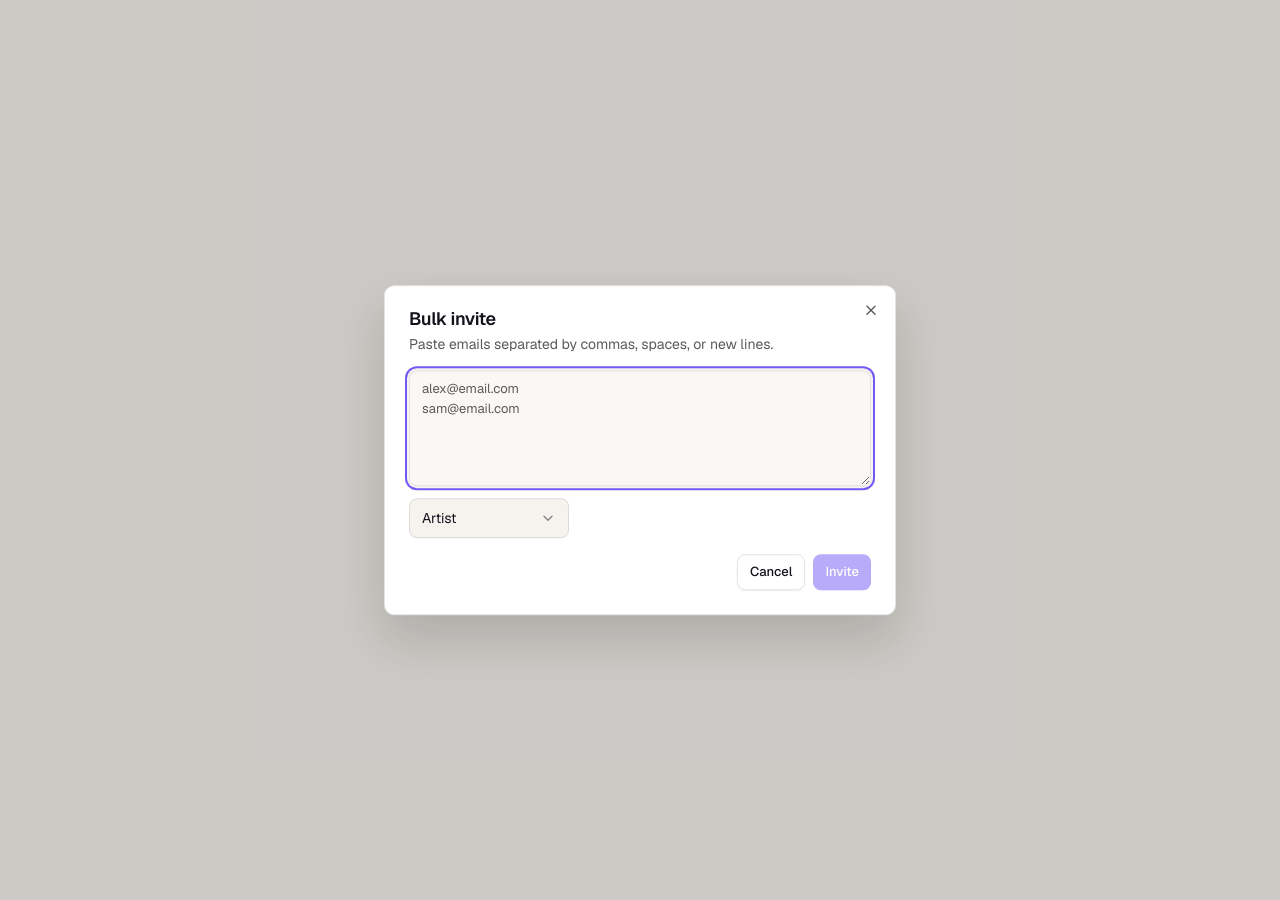
Scenario: BulkInviteDialog › keeps the dialog open and repopulates only the failed addresses on partial failure
Type "new@x.com, boom@x.com" into the text box at [640, 428], box [409,370,871,486]
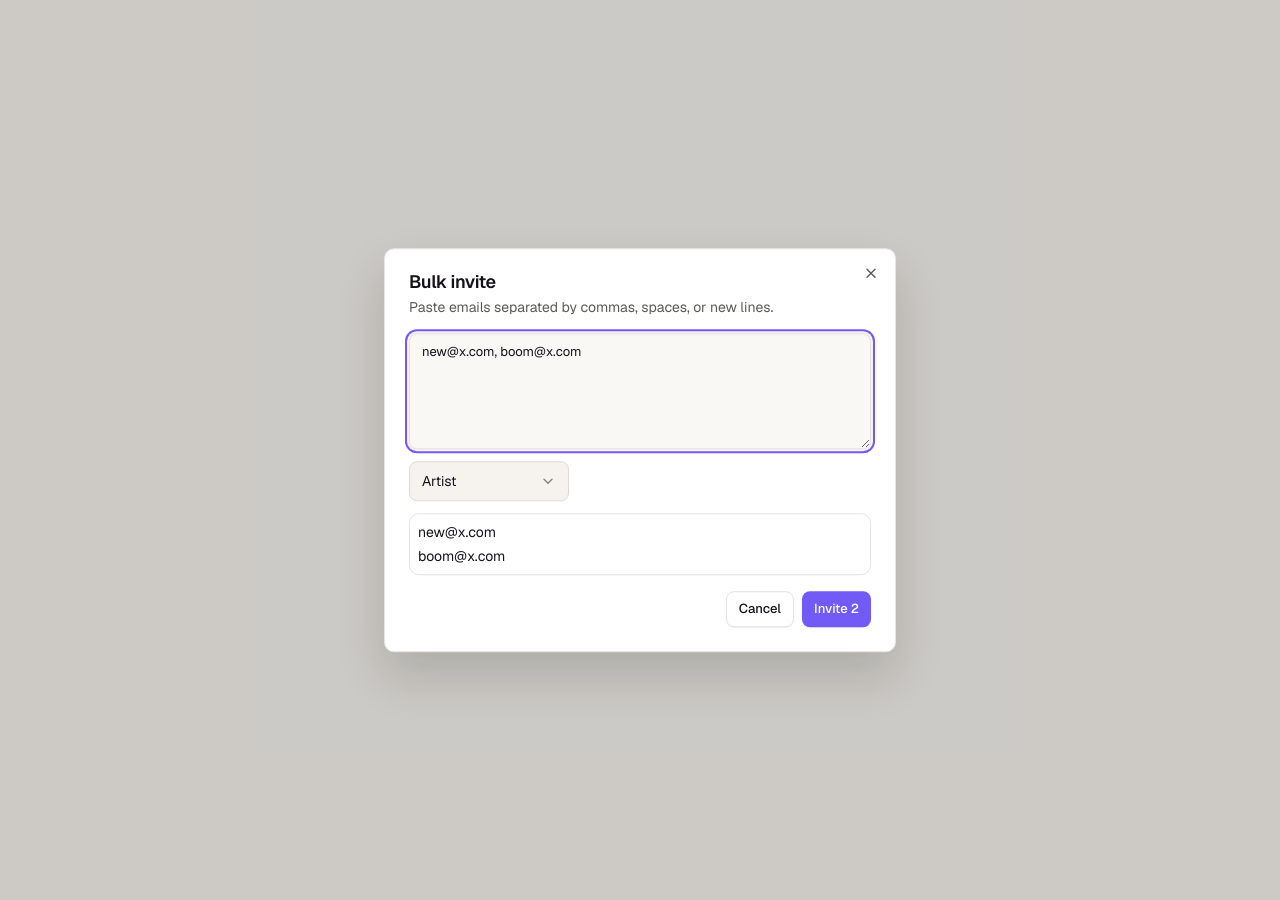
Click the button "Invite 2" at [836, 609], box [802,591,871,627]
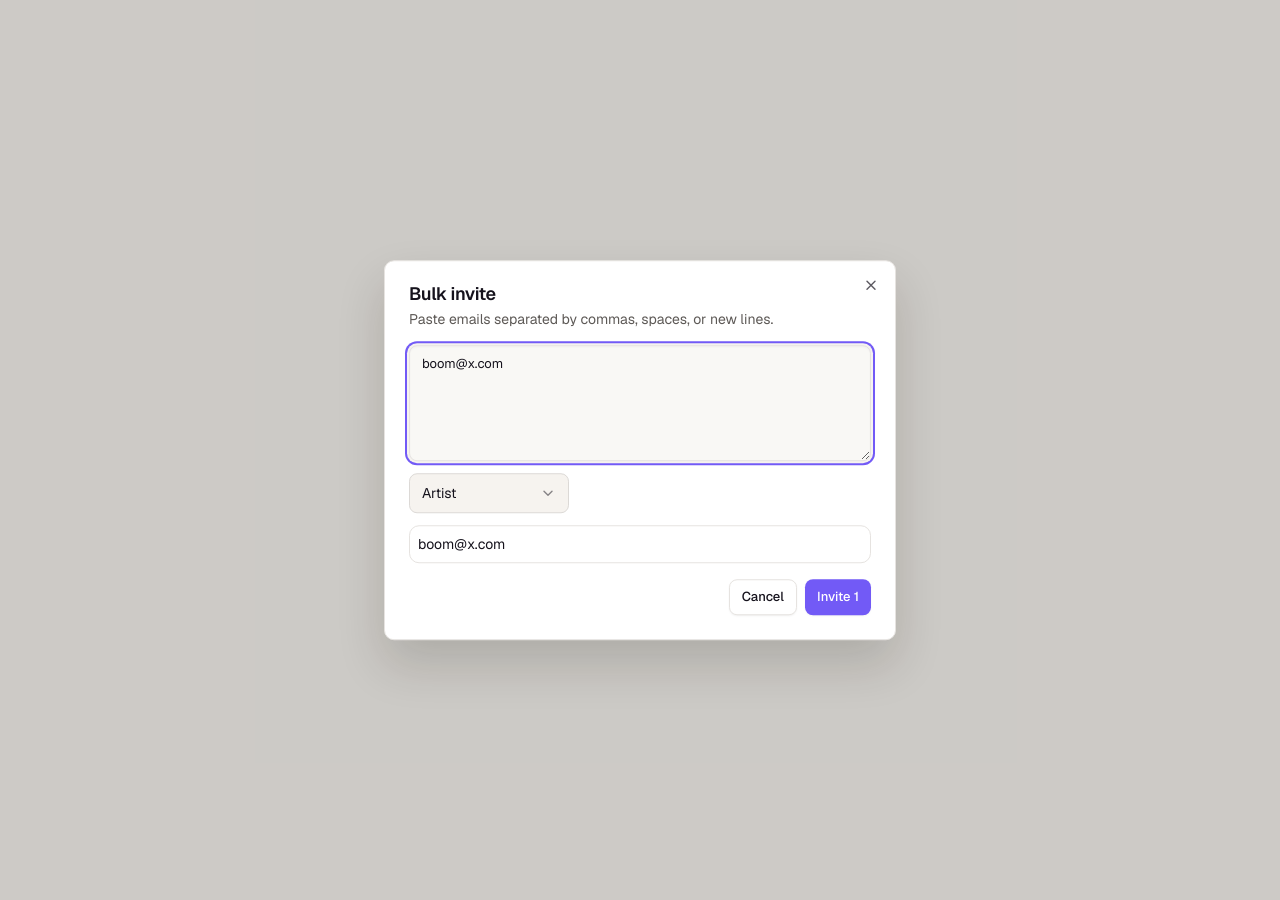
Now the text box holds "boom@x.com", box [409,345,871,461]
